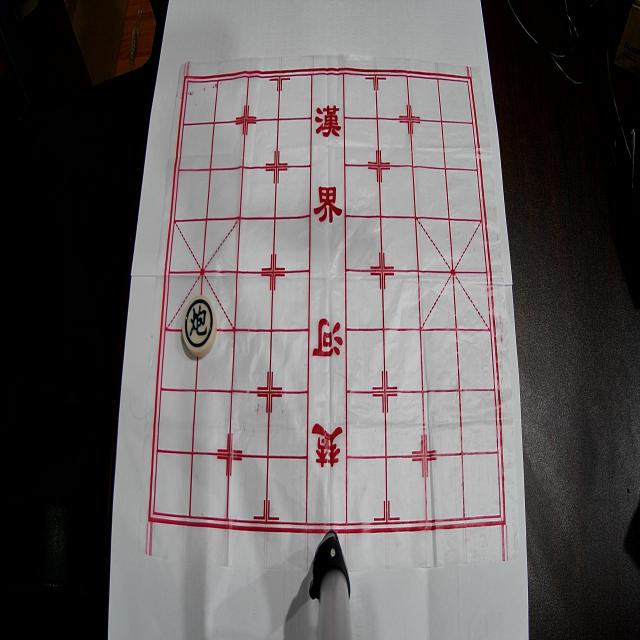black-cannon: (182, 295, 216, 357)
